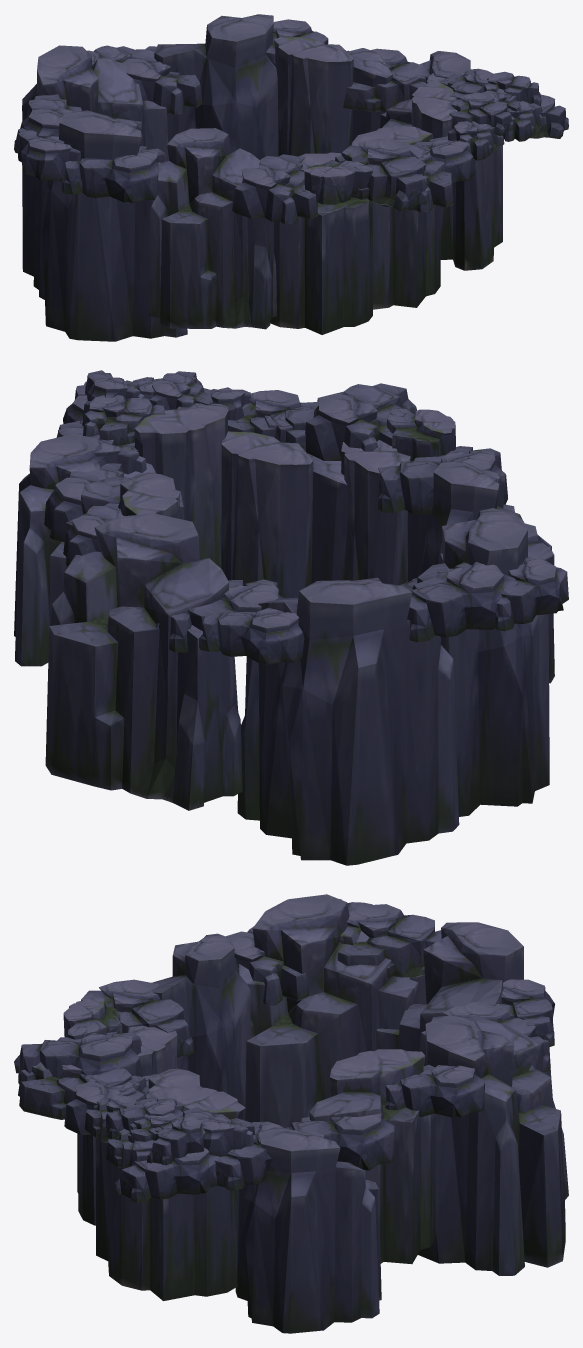
Rendered from Area08_1.fbx.
3 renders of one model, top to bottom at view 1: azimuth 30°, elevation 25°; view 2: azimuth 150°, elevation 25°; view 3: azimuth 270°, elevation 25°, orthographic. The views are drawn at different scales.
Visible parts, largest first — view 1: Area08_1; view 2: Area08_1; view 3: Area08_1.
Boxes of the visible parts, x1=… form: Area08_1: x1=14, y1=14, x2=568, y2=341; Area08_1: x1=14, y1=370, x2=568, y2=865; Area08_1: x1=14, y1=894, x2=568, y2=1333.
Bounding box in the file's own units: 4989 × 2095 × 4342.
